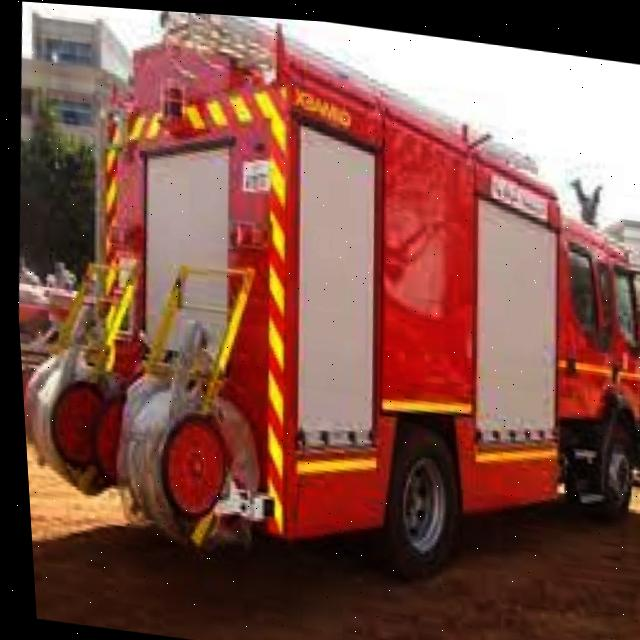emergency: (0, 0, 640, 605)
